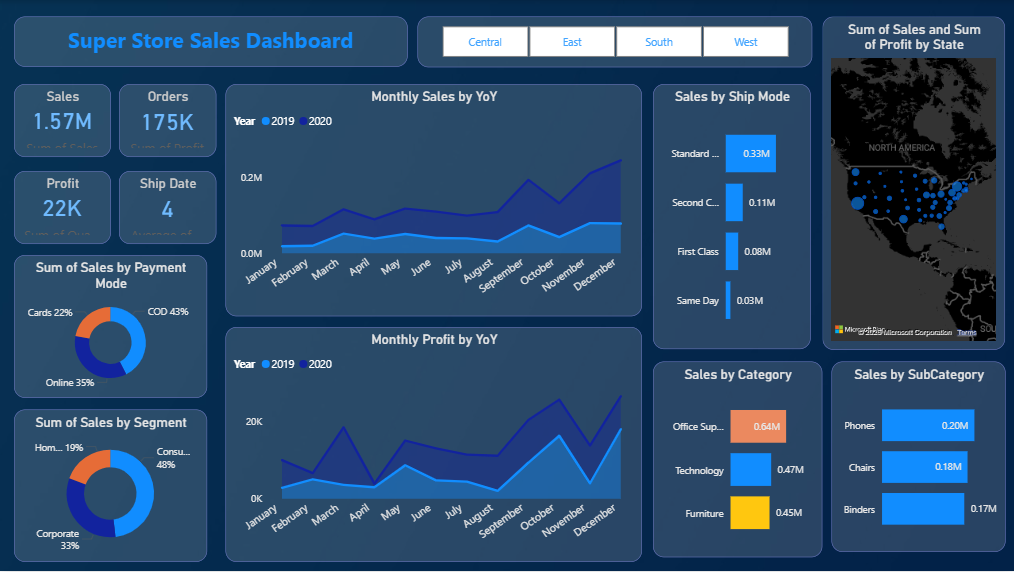

The page's visual inventory and layout, read from the dashboard file:
{"tool":"powerbi","page":{"name":"Page 1","canvas":[1280,720],"ordinal":0},"visuals":[{"type":"clusteredBarChart","title":" Sales by Category","fields":{"Category":["SuperStore_Sales_Dataset.Category"],"Y":["Sum(SuperStore_Sales_Dataset.Sales)"]},"box":[823.9,454.9,213.1,246.5],"z":0},{"type":"clusteredBarChart","title":" Sales by SubCategory","fields":{"Category":["SuperStore_Sales_Dataset.Sub-Category"],"Y":["Sum(SuperStore_Sales_Dataset.Sales)"]},"box":[1048.2,454.9,219.5,240.2],"z":1000},{"type":"clusteredBarChart","title":" Sales by Ship Mode","fields":{"Category":["SuperStore_Sales_Dataset.Ship Mode"],"Y":["Sum(SuperStore_Sales_Dataset.Sales)"]},"box":[823.9,106.6,198.8,334],"z":2000},{"type":"stackedAreaChart","title":" Monthly Sales by YoY","fields":{"Category":["SuperStore_Sales_Dataset.Order Date.Variation.Date Hierarchy.Month","SuperStore_Sales_Dataset.Order Date.Variation.Date Hierarchy.Day"],"Y":["Sum(SuperStore_Sales_Dataset.Sales)"],"Series":["SuperStore_Sales_Dataset.Order Date.Variation.Date Hierarchy.Year"]},"box":[284.7,106.6,524.9,292.7],"z":3000},{"type":"stackedAreaChart","title":" Monthly Profit by YoY","fields":{"Category":["SuperStore_Sales_Dataset.Order Date.Variation.Date Hierarchy.Month","SuperStore_Sales_Dataset.Order Date.Variation.Date Hierarchy.Day"],"Series":["SuperStore_Sales_Dataset.Order Date.Variation.Date Hierarchy.Year"],"Y":["Sum(SuperStore_Sales_Dataset.Profit)"]},"box":[284.7,412,524.9,295.9],"z":4000},{"type":"map","fields":{"Category":["SuperStore_Sales_Dataset.State"],"Size":["Sum(SuperStore_Sales_Dataset.Sales)"]},"box":[1038,20,230,420],"z":5000},{"type":"donutChart","fields":{"Category":["SuperStore_Sales_Dataset.Segment"],"Y":["Sum(SuperStore_Sales_Dataset.Sales)"]},"box":[18.3,516.7,243.3,191.7],"z":6000},{"type":"donutChart","fields":{"Y":["Sum(SuperStore_Sales_Dataset.Sales)"],"Category":["SuperStore_Sales_Dataset.Payment Mode"]},"box":[18.3,321.7,243.3,180],"z":7000},{"type":"textbox","box":[19.1,20.7,496.3,63.6],"z":8000},{"type":"card","title":"Sales ","fields":{"Values":["Sum(SuperStore_Sales_Dataset.Sales)"]},"box":[18.3,106.7,121.7,91.7],"z":9000},{"type":"slicer","fields":{"Values":["SuperStore_Sales_Dataset.Region"]},"box":[527.2,20.8,497,64.3],"z":10000},{"type":"card","title":"Profit","fields":{"Values":["Sum(SuperStore_Sales_Dataset.Quantity)"]},"box":[18.3,215,121.7,91.7],"z":11000},{"type":"card","title":"Orders","fields":{"Values":["Sum(SuperStore_Sales_Dataset.Profit)"]},"box":[151.1,106.6,122.5,92.3],"z":12000},{"type":"card","title":"Ship Date","fields":{"Values":["Avg(SuperStore_Sales_Dataset.AvgDelivery)"]},"box":[151.1,214.7,122.5,92.3],"z":13000}]}

Visuals, with their boxes in screenshot pixels (x1, y1, x2, y2), scaled from the page's 1280x720 canvas onto the 1014x572 screenshot:
" Sales by Category" clusteredBarChart: 653,361,821,557
" Sales by SubCategory" clusteredBarChart: 830,361,1004,552
" Sales by Ship Mode" clusteredBarChart: 653,85,810,350
" Monthly Sales by YoY" stackedAreaChart: 226,85,641,317
" Monthly Profit by YoY" stackedAreaChart: 226,327,641,562
map - SuperStore_Sales_Dataset.State x Sum(SuperStore_Sales_Dataset.Sales): 822,16,1004,350
donutChart - SuperStore_Sales_Dataset.Segment x Sum(SuperStore_Sales_Dataset.Sales): 14,410,207,563
donutChart - Sum(SuperStore_Sales_Dataset.Sales) x SuperStore_Sales_Dataset.Payment Mode: 14,256,207,399
textbox: 15,16,408,67
"Sales " card: 14,85,111,158
slicer - SuperStore_Sales_Dataset.Region: 418,17,811,68
"Profit" card: 14,171,111,244
"Orders" card: 120,85,217,158
"Ship Date" card: 120,171,217,244
